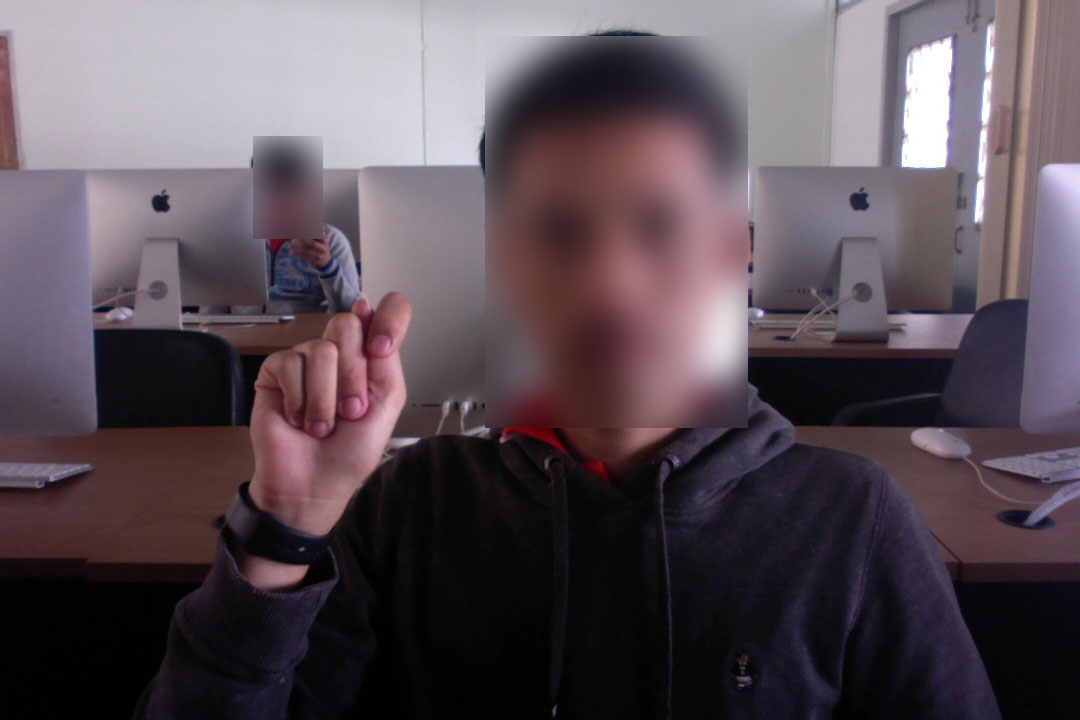tor: (244, 290, 416, 526)
